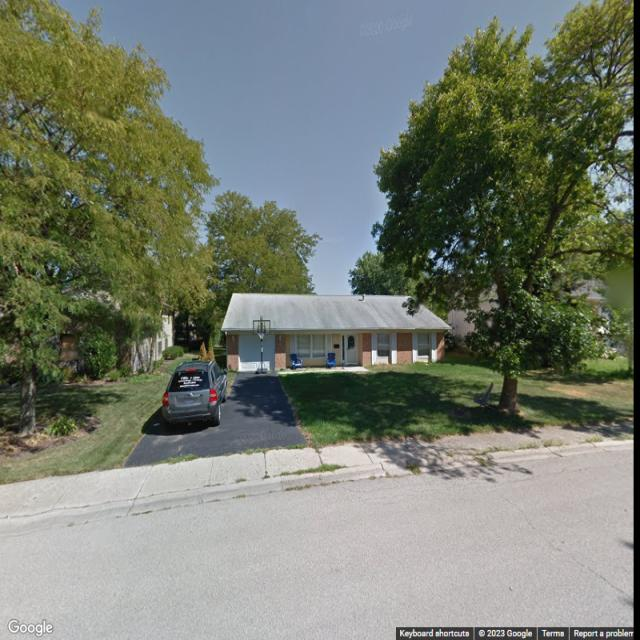House: (223, 292, 452, 373), (57, 281, 176, 381)
